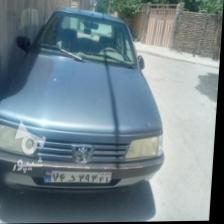plate: (44, 169, 115, 187)
